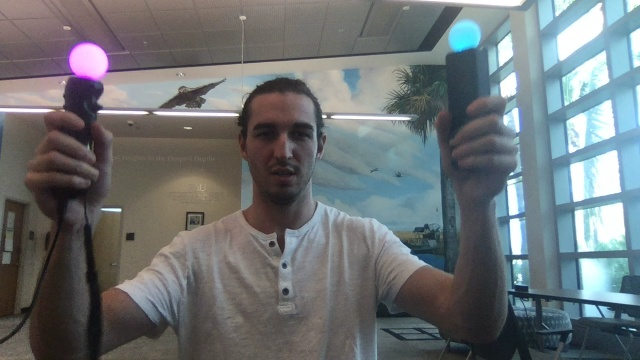wand: (70, 44, 110, 79), (450, 20, 482, 52)
